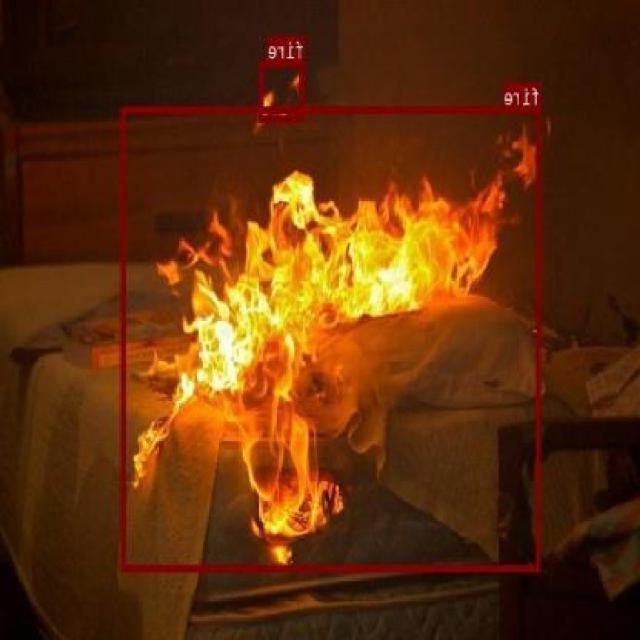Fire: (122, 105, 542, 570), (260, 60, 306, 120)
